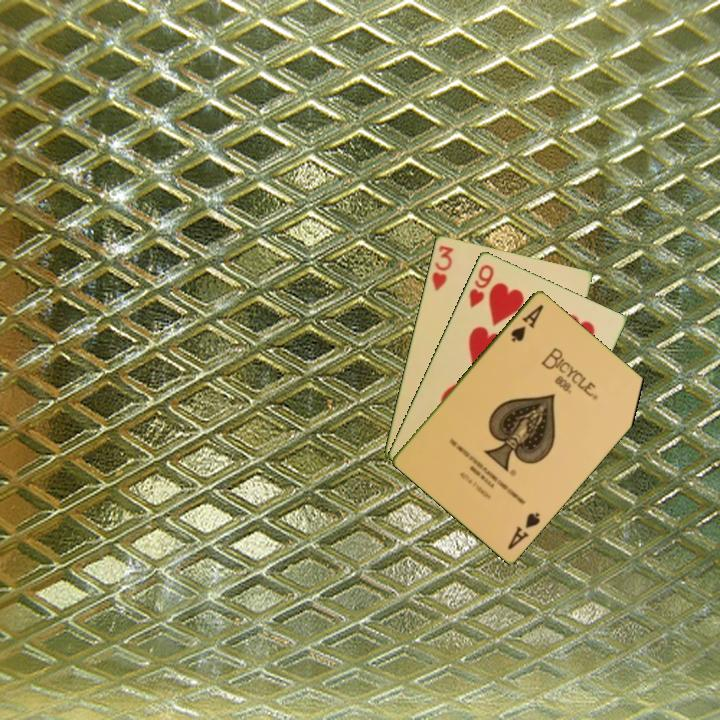3h: (428, 241, 456, 294)
9h: (465, 260, 497, 310)
As: (503, 508, 543, 552), (507, 300, 546, 345)
